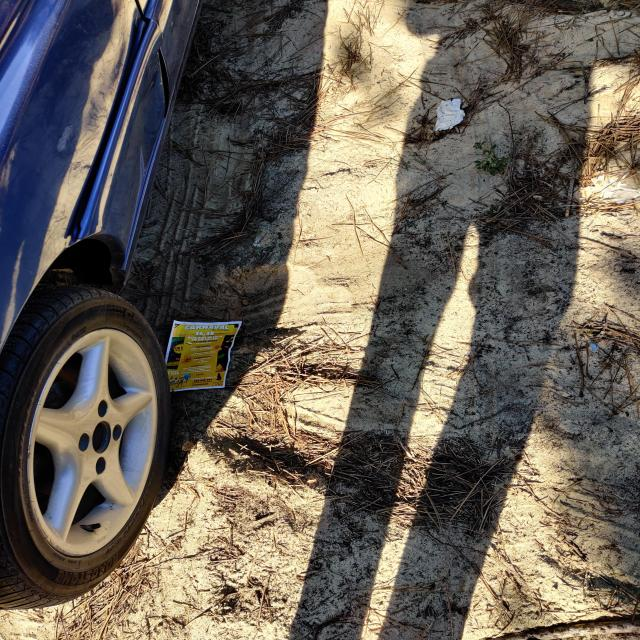litter: (161, 317, 244, 396), (431, 97, 468, 132)
